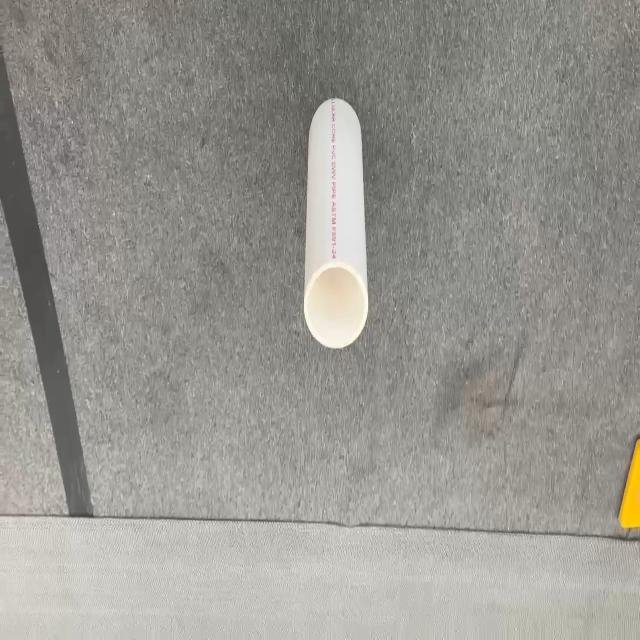coral: (303, 96, 369, 348)
